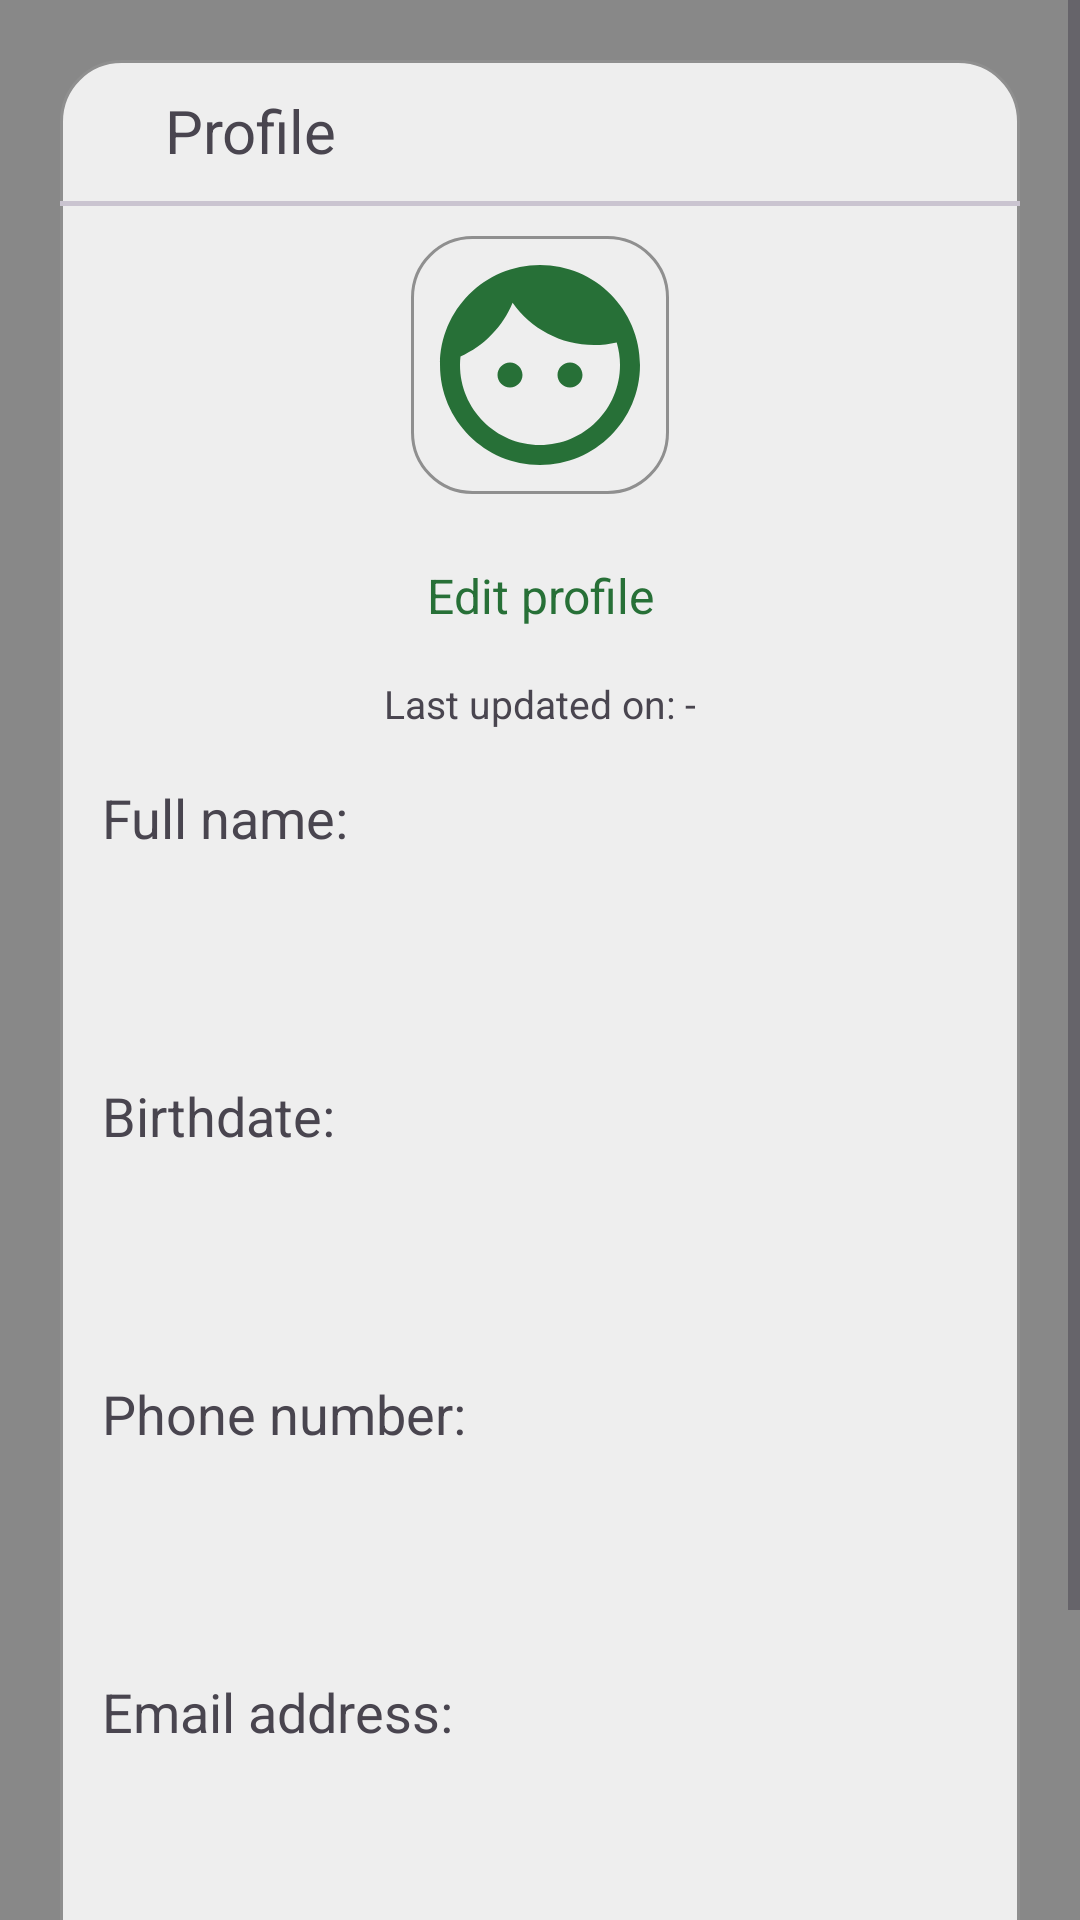

Icons on this 1080 x 1920 Android screen, each with the point to tap as (x=x, y=y):
face: (x=540, y=365)
